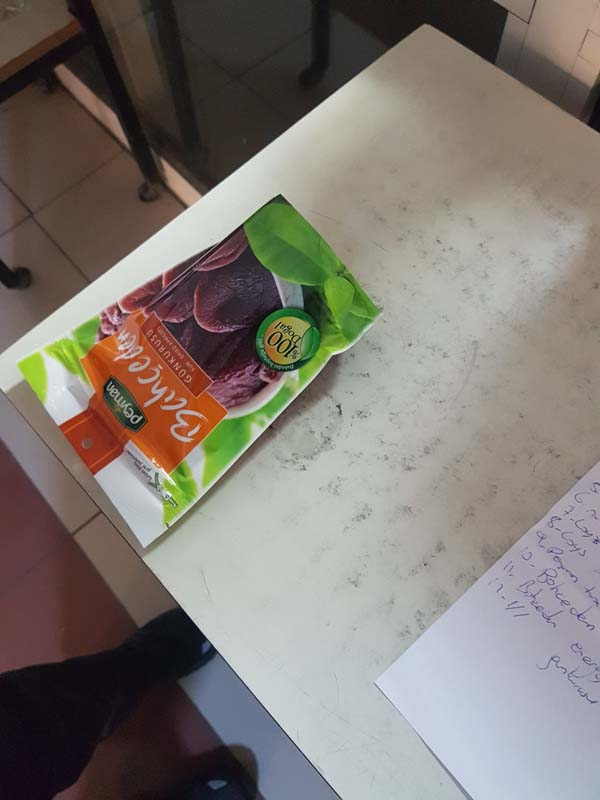bahcedengunkurusu: (16, 188, 384, 552)
